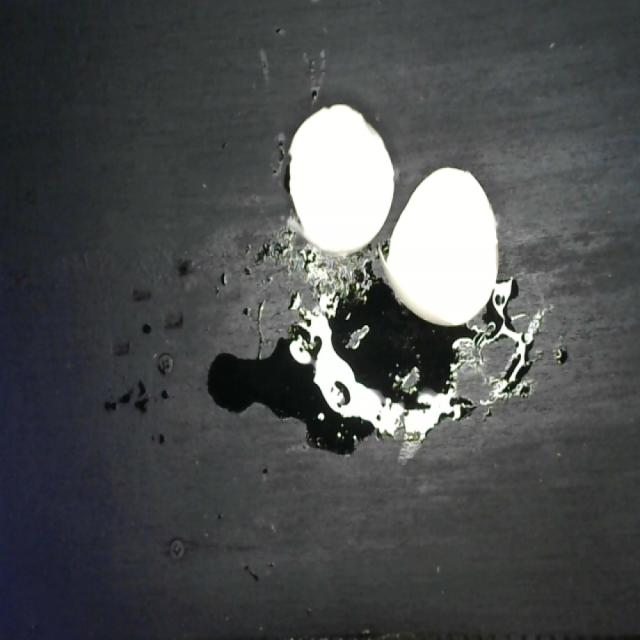biodegradable: (283, 99, 499, 328)
